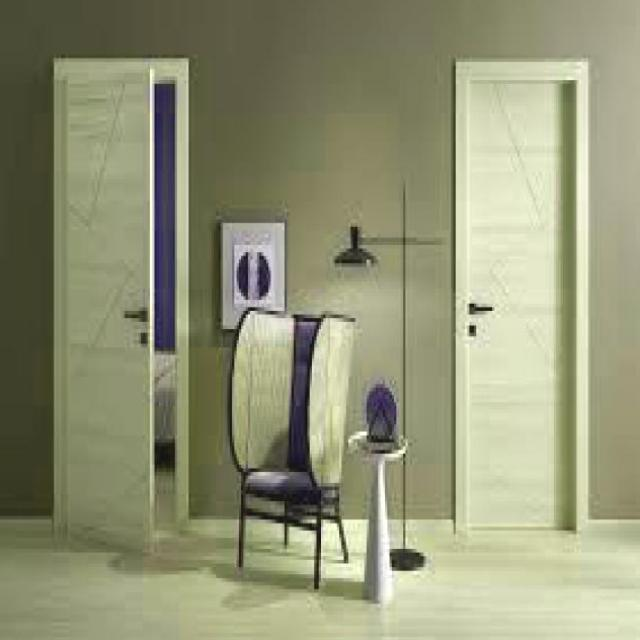door: (453, 60, 583, 533), (56, 66, 156, 552)
